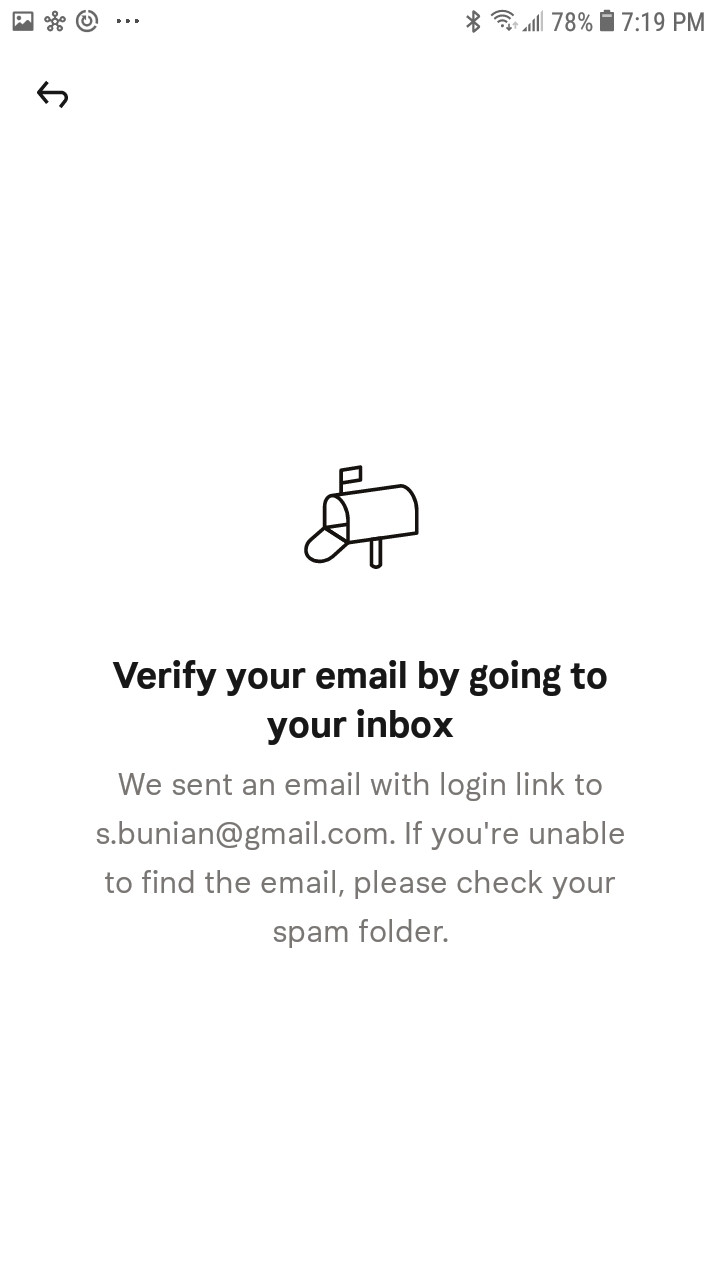Icon: (37, 81, 70, 109)
Image: (304, 465, 420, 570)
Text: (96, 771, 625, 949), (113, 659, 608, 746)
UpperTaskBar: (1, 1, 720, 34)
